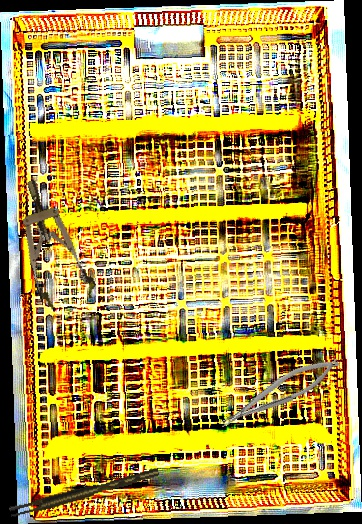Needle Holder: (213, 350, 345, 434)
Speculum: (4, 171, 100, 314)
Tissue Forceps: (7, 468, 162, 518)
